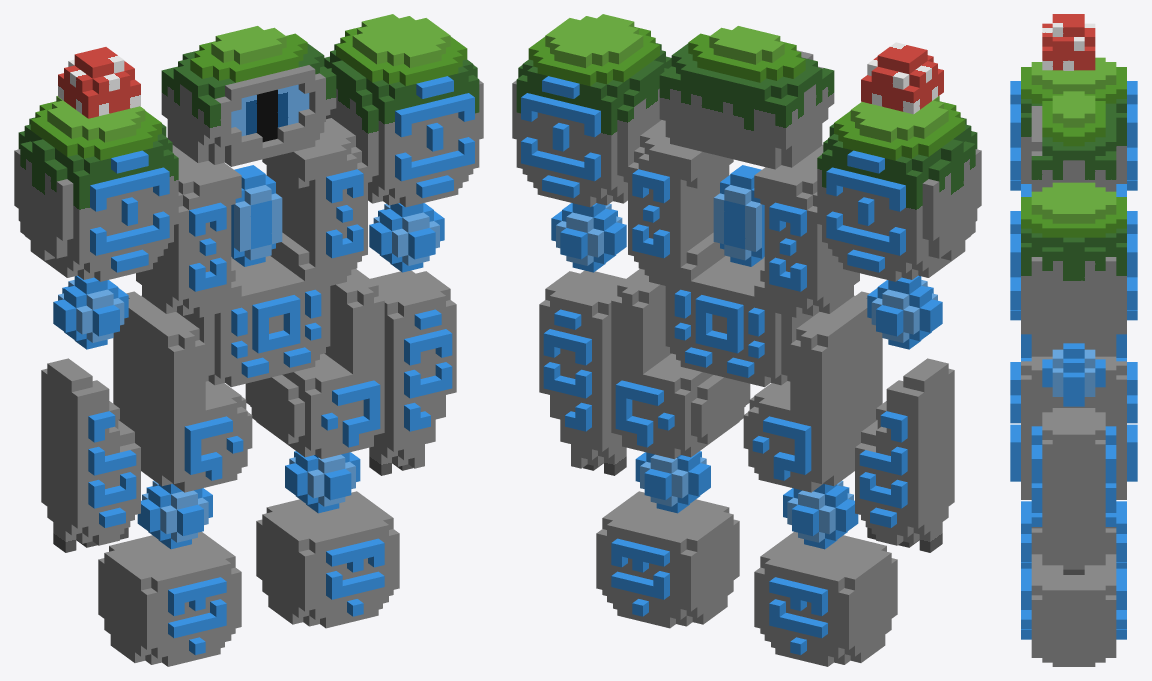
The model's file is stone_golem_blue.gltf.
The picture shows the model from 3 angles, left to right: view 1: azimuth 30°, elevation 25°; view 2: azimuth 150°, elevation 25°; view 3: azimuth 270°, elevation 25°; orthographic projection. The views are drawn at different scales.
Parts seen in each view (by area): view 1: stone_golem_blue-Mesh; view 2: stone_golem_blue-Mesh; view 3: stone_golem_blue-Mesh.
Boxes of the visible parts, left/top/right/bottom form: stone_golem_blue-Mesh: left=14, top=14, right=483, bottom=666; stone_golem_blue-Mesh: left=512, top=14, right=981, bottom=666; stone_golem_blue-Mesh: left=1010, top=14, right=1137, bottom=666.
Bounding box in the file's own units: 40 × 55 × 12.
Materials: 1 (1 with a texture image).
